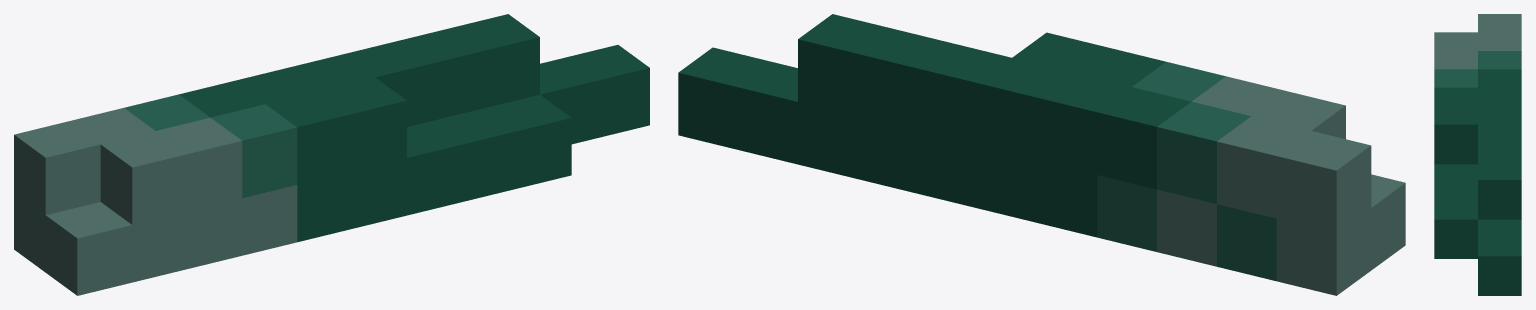
The model's file is assets-0.obj.
3 renders of one model, left to right at view 1: azimuth 30°, elevation 25°; view 2: azimuth 150°, elevation 25°; view 3: azimuth 270°, elevation 25°, orthographic. The views are drawn at different scales.
Bounding box in the file's own units: 1.1 × 0.2 × 0.2.
1 material, 1 textured.
